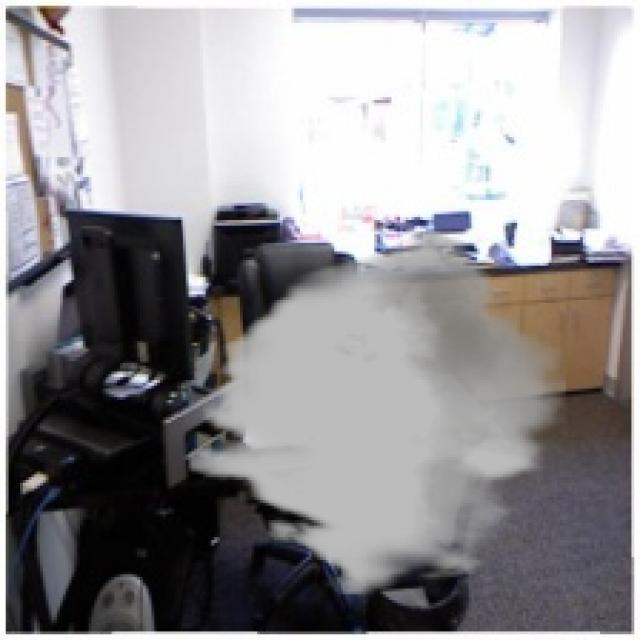Smoke: (188, 228, 566, 598)
